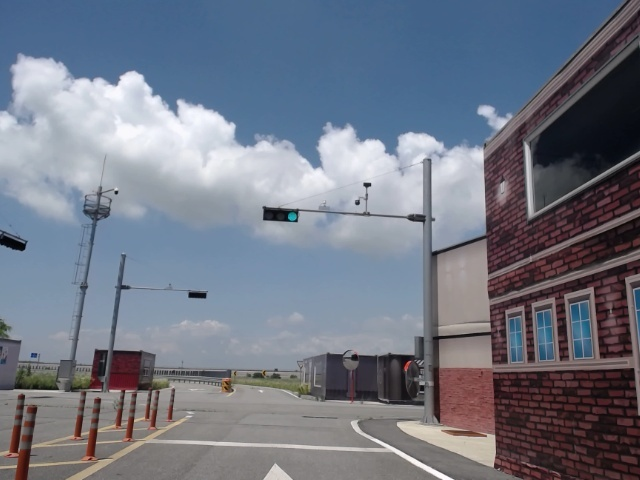green_3: (260, 205, 301, 222)
